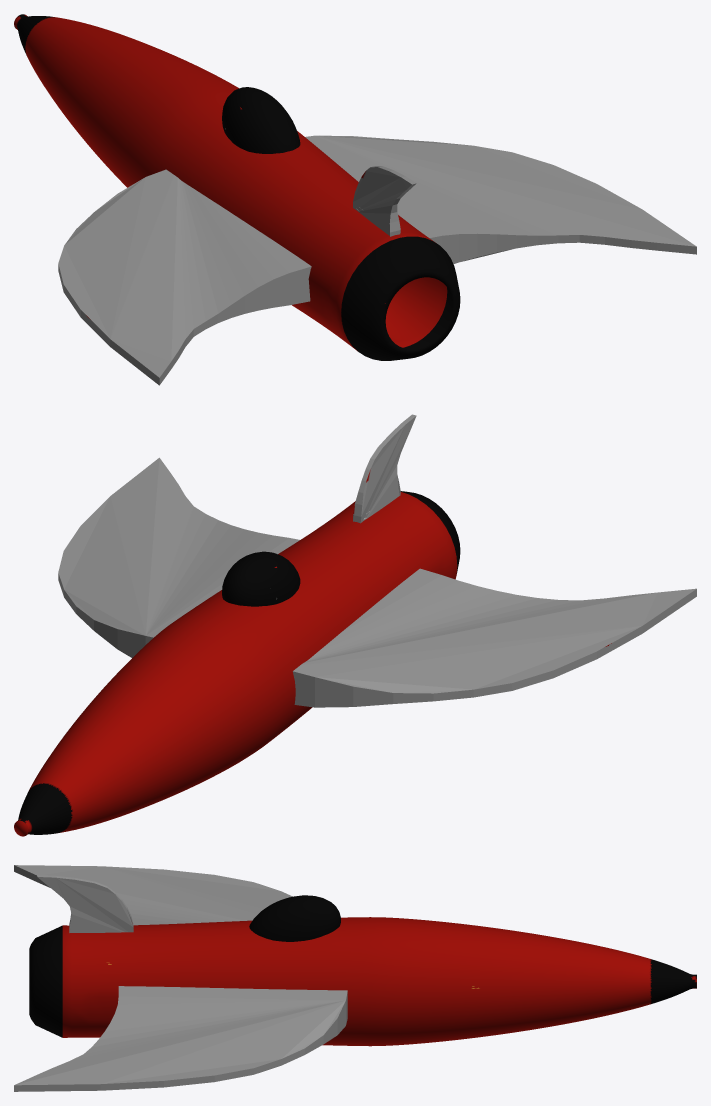
Rendered from SaR.obj.
3 renders of one model, top to bottom at view 1: azimuth 30°, elevation 25°; view 2: azimuth 150°, elevation 25°; view 3: azimuth 270°, elevation 25°, orthographic. The views are drawn at different scales.
Visible parts, largest first — view 1: Cylinder; view 2: Cylinder; view 3: Cylinder.
Boxes of the visible parts, x1=… form: Cylinder: x1=14, y1=14, x2=696, y2=385; Cylinder: x1=14, y1=414, x2=696, y2=836; Cylinder: x1=14, y1=865, x2=696, y2=1091.
Size of the model in its own units: 8.05 by 2.8 by 10.56.
